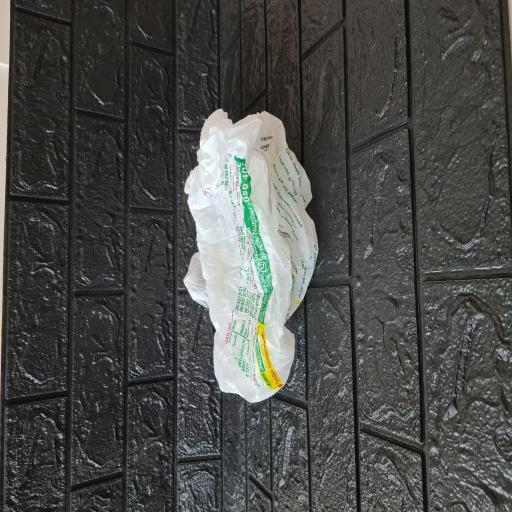plastic bag: (182, 106, 320, 406)
